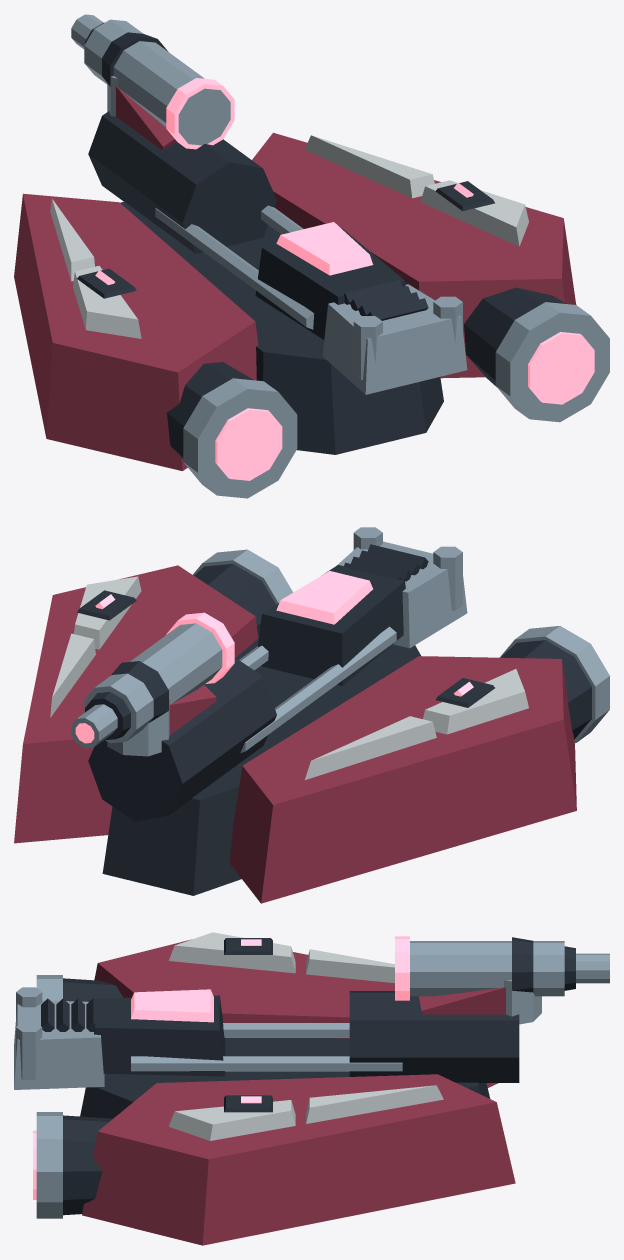
Rendered from c1_skirmisher.glb.
3 renders of one model, top to bottom at view 1: azimuth 30°, elevation 25°; view 2: azimuth 150°, elevation 25°; view 3: azimuth 270°, elevation 25°, orthographic. The views are drawn at different scales.
Parts seen in each view (by area): view 1: c1_skirmisher / Armor, c1_skirmisher / Chassis, c1_skirmisher / Titanium, c1_skirmisher / Energy, c1_skirmisher / Identification; view 2: c1_skirmisher / Armor, c1_skirmisher / Chassis, c1_skirmisher / Titanium, c1_skirmisher / Identification, c1_skirmisher / Energy; view 3: c1_skirmisher / Armor, c1_skirmisher / Chassis, c1_skirmisher / Titanium, c1_skirmisher / Identification, c1_skirmisher / Energy.
Part boxes in pixels (<box>): c1_skirmisher / Armor: <box>14,86,576,470</box>; c1_skirmisher / Chassis: <box>77,22,566,459</box>; c1_skirmisher / Titanium: <box>71,14,609,498</box>; c1_skirmisher / Energy: <box>95,78,594,480</box>; c1_skirmisher / Identification: <box>50,135,528,338</box>; c1_skirmisher / Armor: <box>14,565,576,903</box>; c1_skirmisher / Chassis: <box>77,544,591,895</box>; c1_skirmisher / Titanium: <box>71,527,609,756</box>; c1_skirmisher / Identification: <box>50,576,528,779</box>; c1_skirmisher / Energy: <box>75,571,473,743</box>; c1_skirmisher / Armor: <box>82,939,515,1245</box>; c1_skirmisher / Chassis: <box>41,937,575,1215</box>; c1_skirmisher / Titanium: <box>14,941,609,1218</box>; c1_skirmisher / Identification: <box>168,932,443,1140</box>; c1_skirmisher / Energy: <box>33,936,409,1199</box>.
Bounding box in the file's own units: 1.46 × 0.607 × 1.58.
